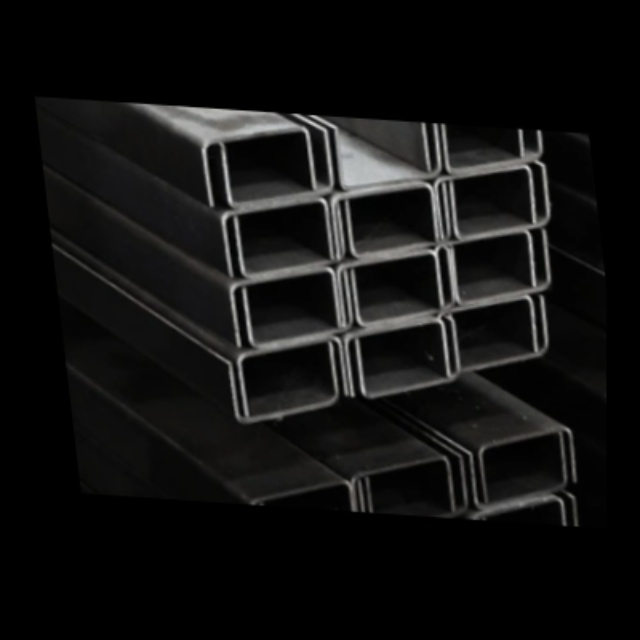Shveller: (201, 121, 318, 213), (225, 336, 341, 428), (228, 261, 342, 354), (220, 194, 337, 283), (236, 331, 350, 422), (240, 265, 356, 353), (220, 124, 335, 212), (233, 196, 348, 283), (342, 177, 455, 263), (353, 313, 462, 402), (335, 245, 444, 333), (342, 315, 453, 401), (328, 179, 440, 264), (347, 243, 457, 329), (447, 158, 554, 244), (448, 223, 554, 309), (447, 292, 551, 378), (433, 160, 539, 244), (467, 427, 570, 513), (434, 226, 538, 311), (476, 423, 578, 507), (334, 117, 443, 194), (436, 292, 538, 372), (363, 452, 467, 516), (349, 451, 454, 514), (442, 124, 545, 178), (423, 123, 526, 176)
